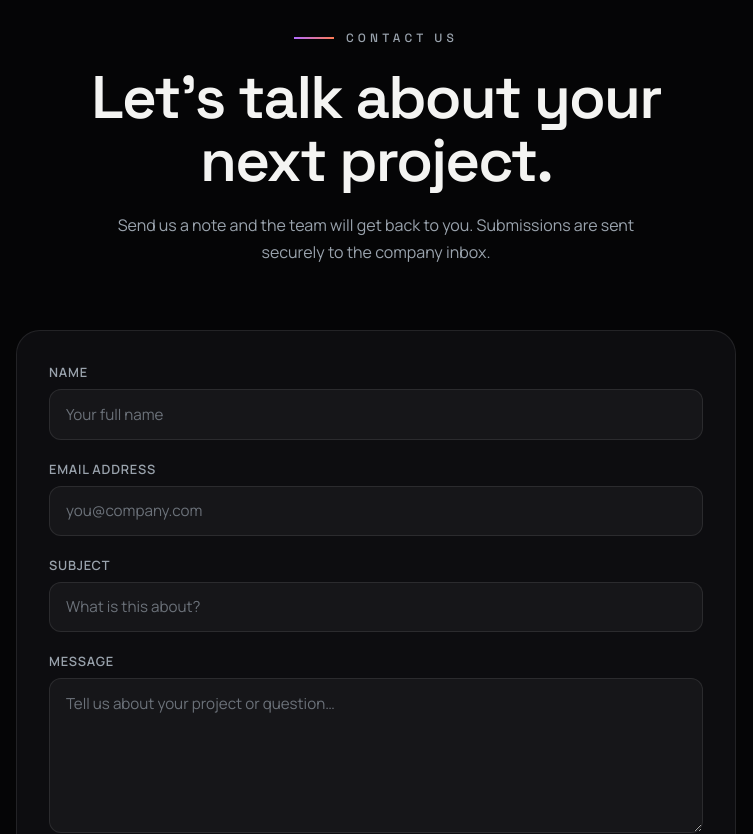
Test: ContactUs › shows success only when the backend accepts the message
Step 1. Type "Jane Doe" into the field labelled "Name" → [376, 414], box [49,389,703,440]
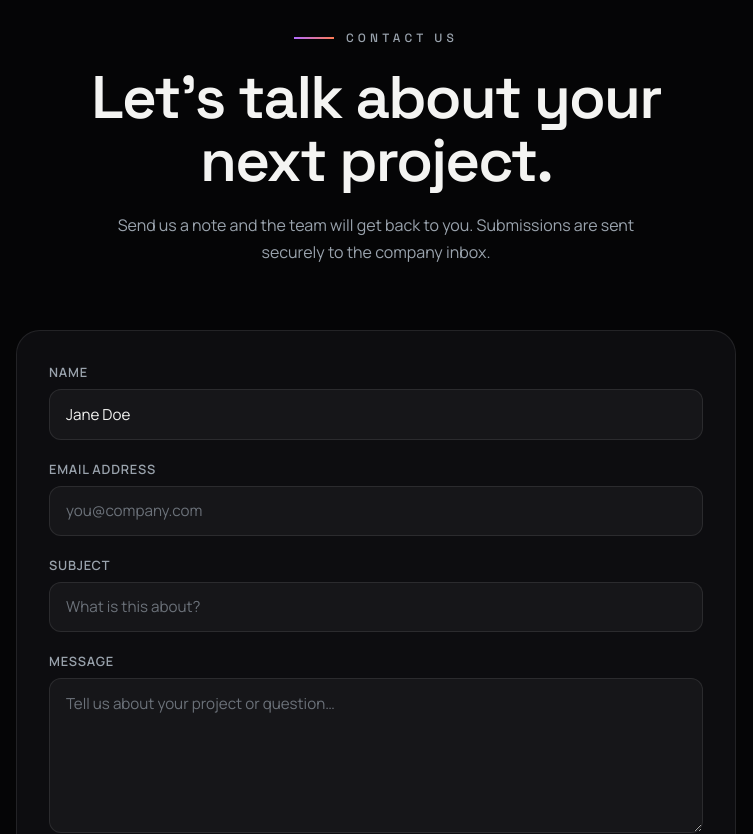
Step 2. Type "jane@example.com" into the field labelled "Email Address" → [376, 511], box [49,486,703,536]
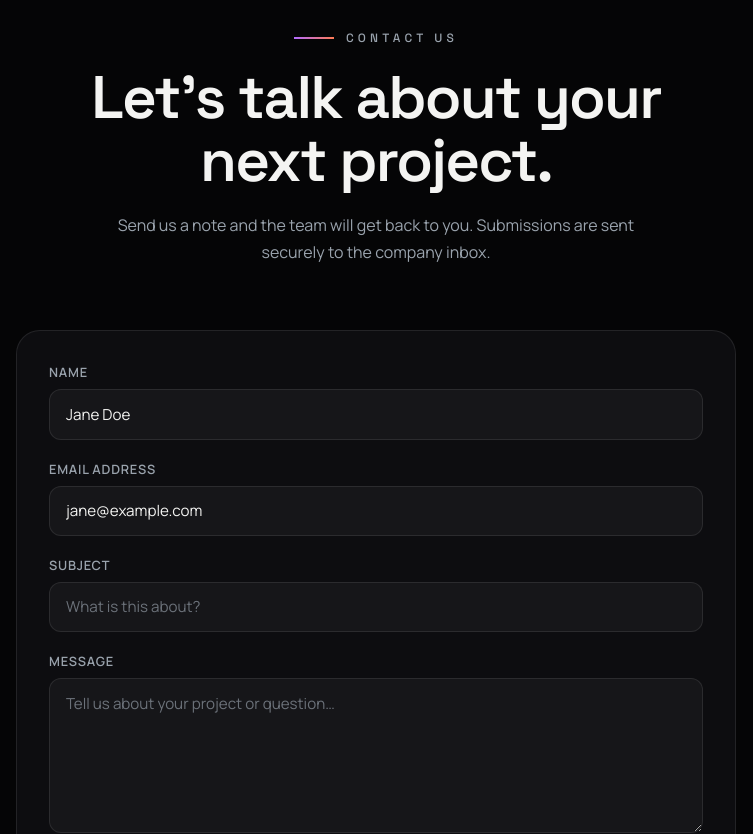
Step 3. Type "Project inquiry" into the field labelled "Subject" → [376, 607], box [49,582,703,632]
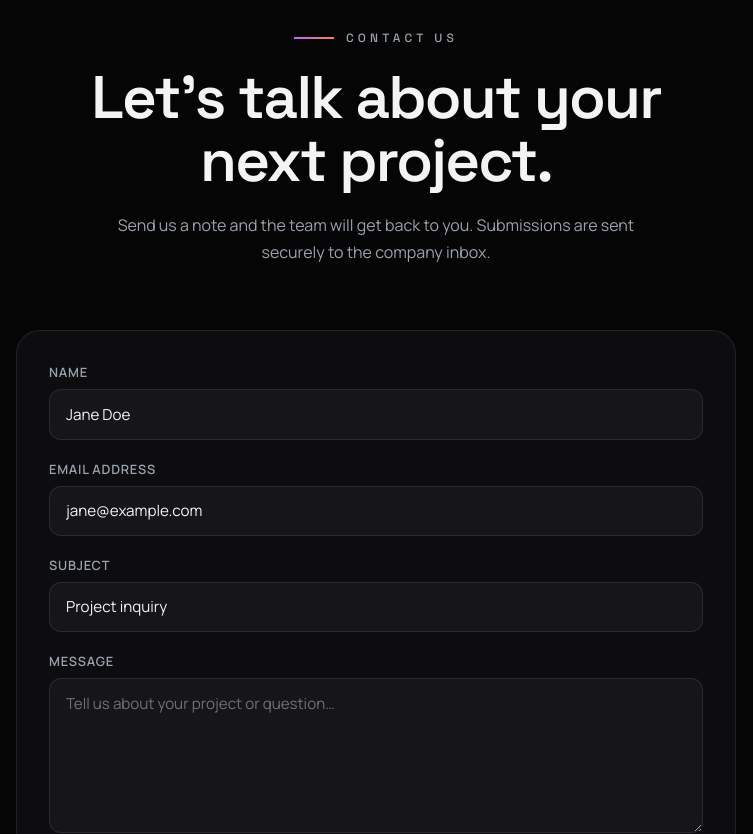
Step 4. Type "Hello, we would like to talk about a new website." into the text box labelled "Message" → [376, 756], box [49,678,703,833]
(page scrolled)
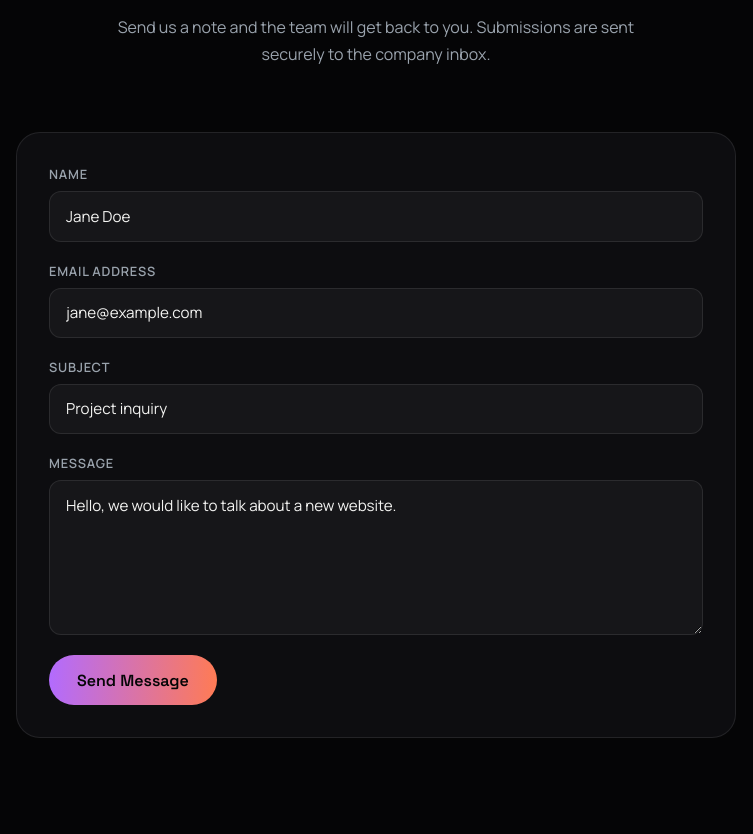
Step 5. Click the button "Send Message" → [133, 680], box [49,655,217,705]
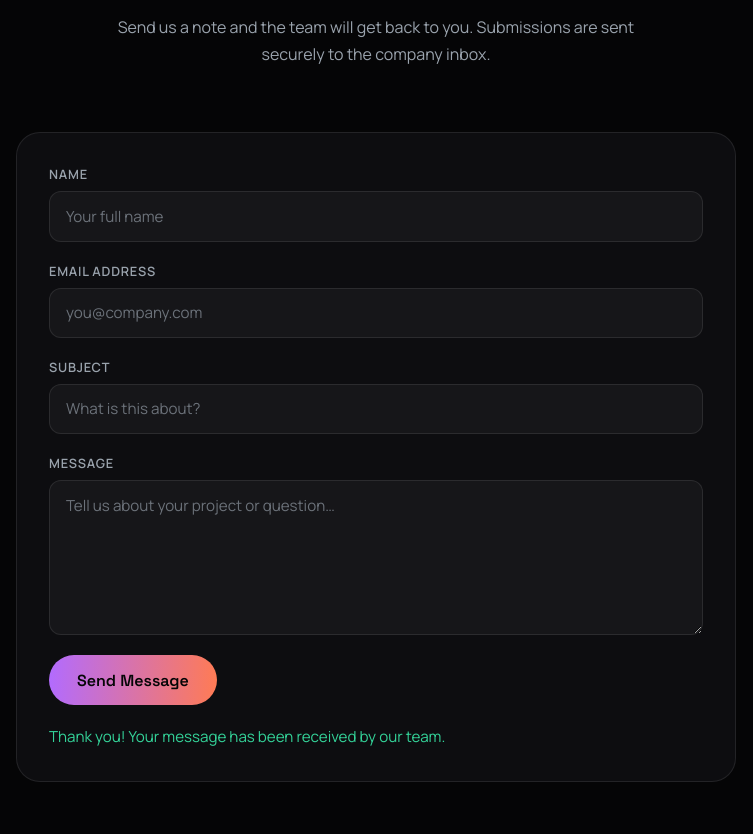
Check: the text "Thank you! Your message has been received by our team." is shown, box [49,726,445,747]
